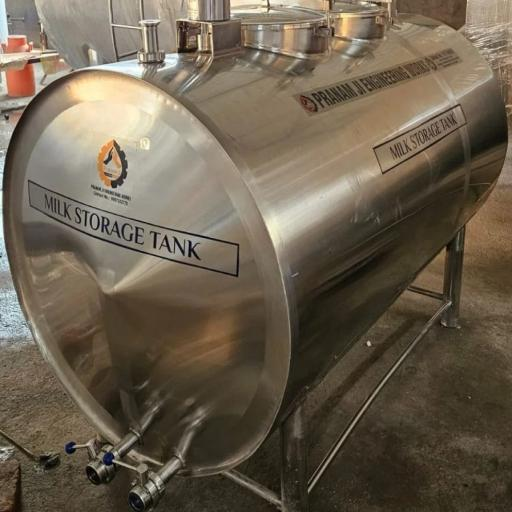silo: (0, 1, 508, 480)
